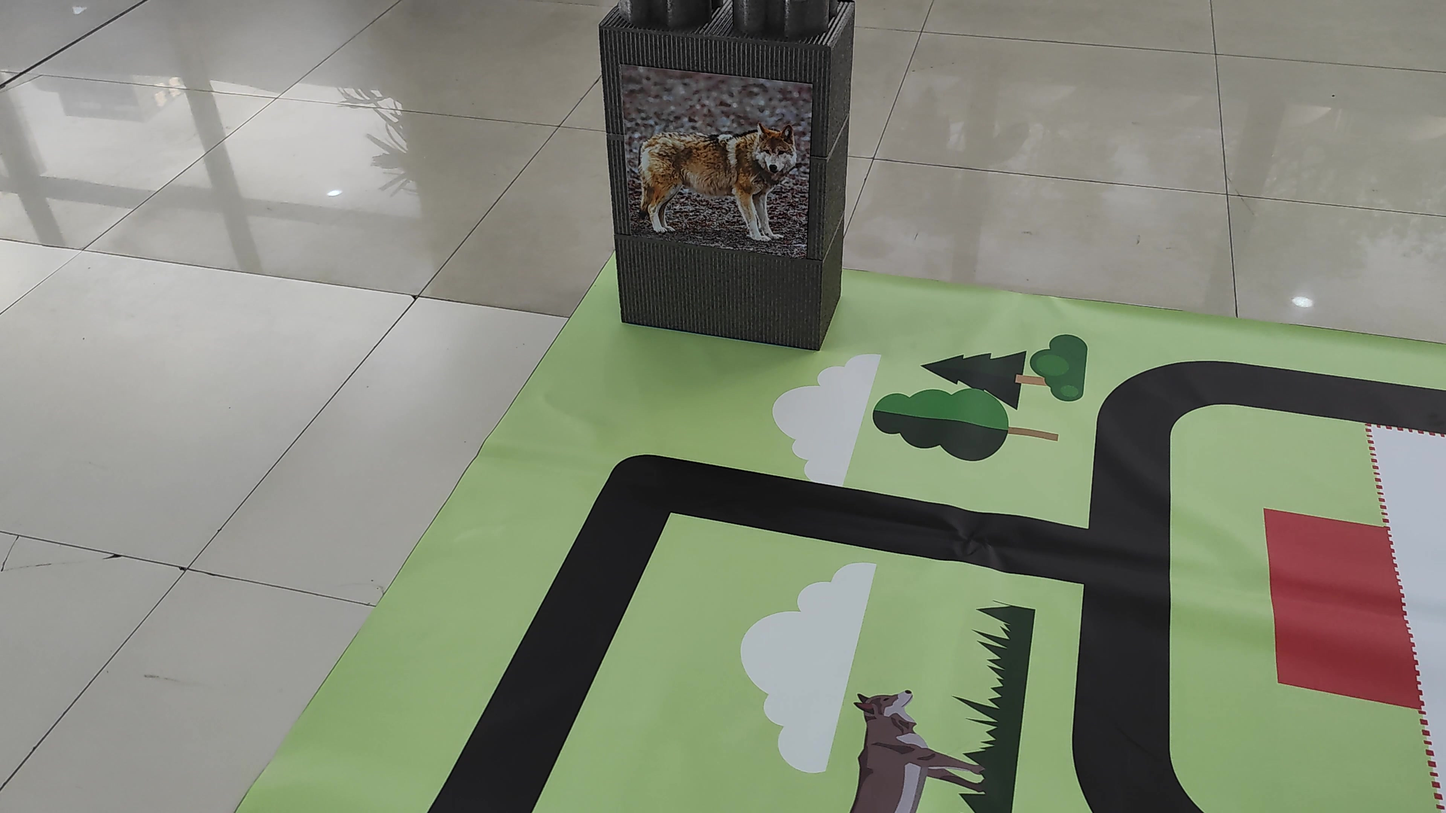wolf: (623, 94, 800, 252)
